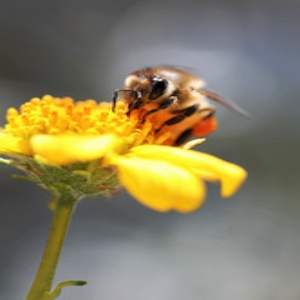bee: (112, 65, 253, 144)
